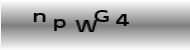4: (115, 13, 130, 27)
G: (93, 8, 109, 23)
W: (74, 18, 96, 32)
n: (31, 11, 46, 24)
p: (52, 17, 65, 33)
